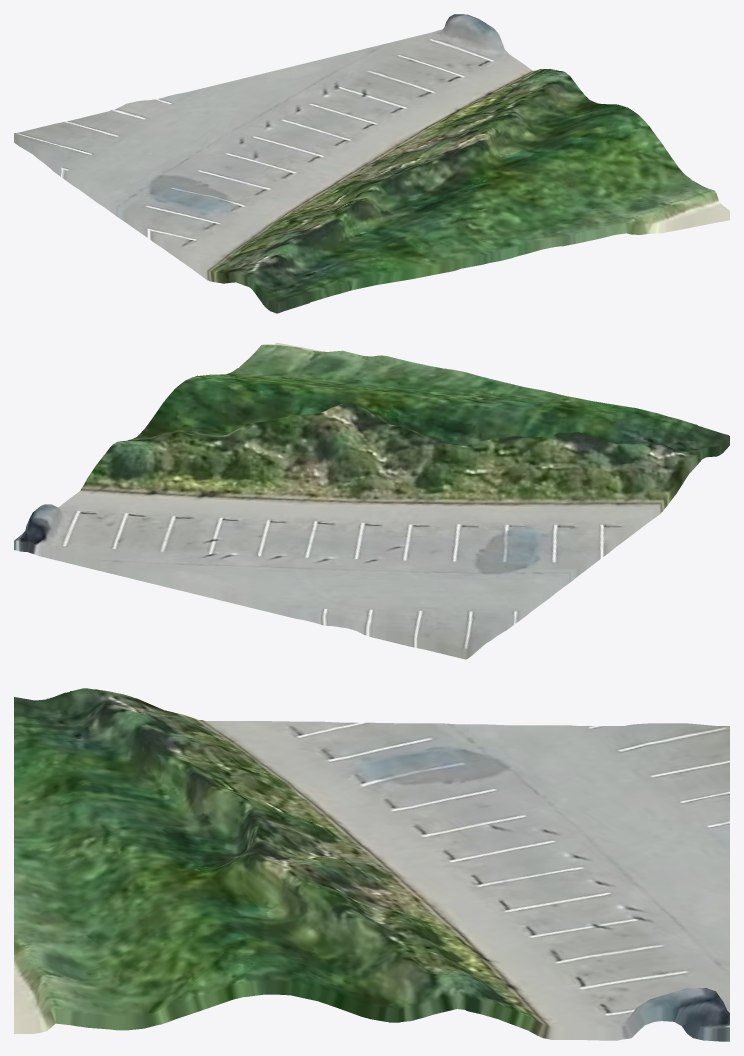
The model's file is z20-167566-405175-h0-yup-uvflip-v3-world.glb.
3 views of the same model, one above another, from view 1: azimuth 30°, elevation 25°; view 2: azimuth 150°, elevation 25°; view 3: azimuth 270°, elevation 25° (orthographic). The views are drawn at different scales.
Size of the model in its own units: 30.16 by 3.64 by 30.32.
1 material, 1 textured.
